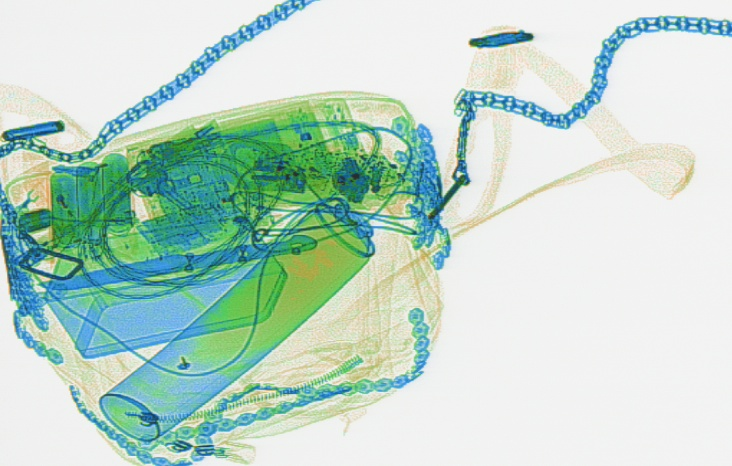knife: (36, 233, 317, 291)
lighter: (24, 167, 88, 245)
powerbank: (47, 151, 136, 249)
pressure: (97, 199, 375, 440)
